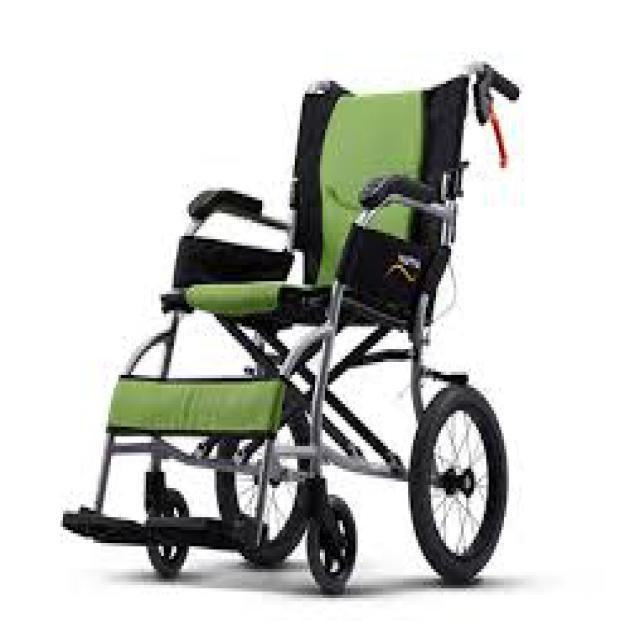wheelchair: (53, 58, 524, 595)
